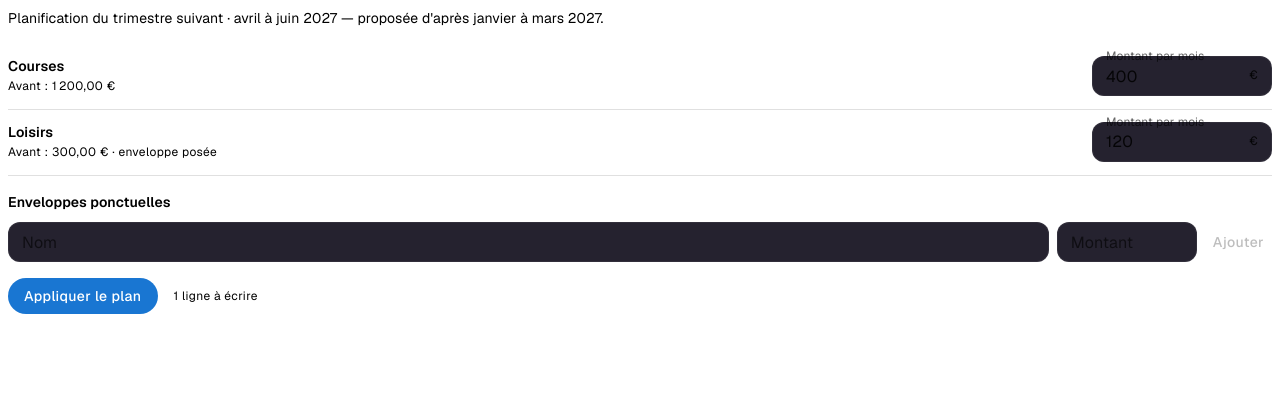
Test: PeriodPlanStep › a plan the network lost says so
Click the button "Appliquer le plan": x=83, y=296 [8,278,158,314]
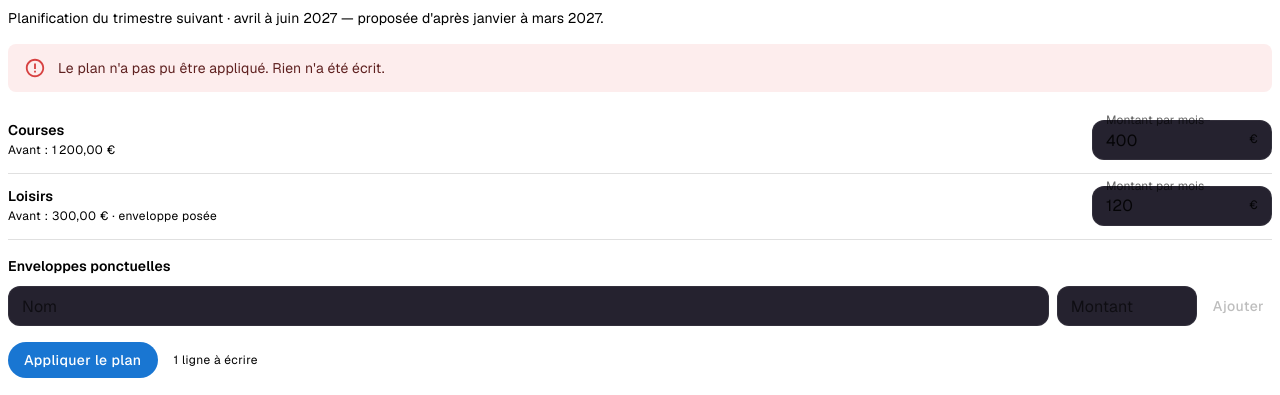
Expected: the message with test id "plan-error" reads "Le plan n'a pas pu être appliqué. Rien n'a été écrit.", [8,44,1272,92]
